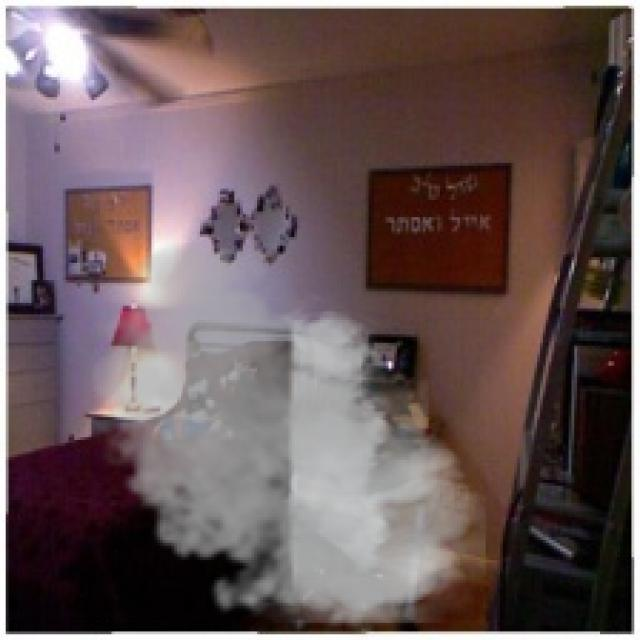Smoke: (74, 234, 489, 637)
